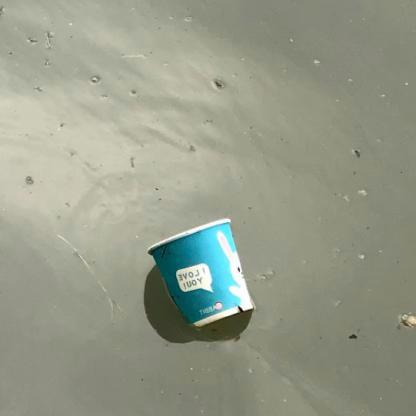Plastic: (146, 215, 258, 334)
